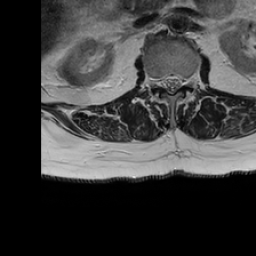CCS_normal: (168, 65, 176, 101)
LFS_normal: (184, 65, 192, 93)
LLS_normal: (176, 65, 184, 95)
RFS_normal: (152, 66, 160, 94)
RLS_normal: (160, 65, 168, 95)
